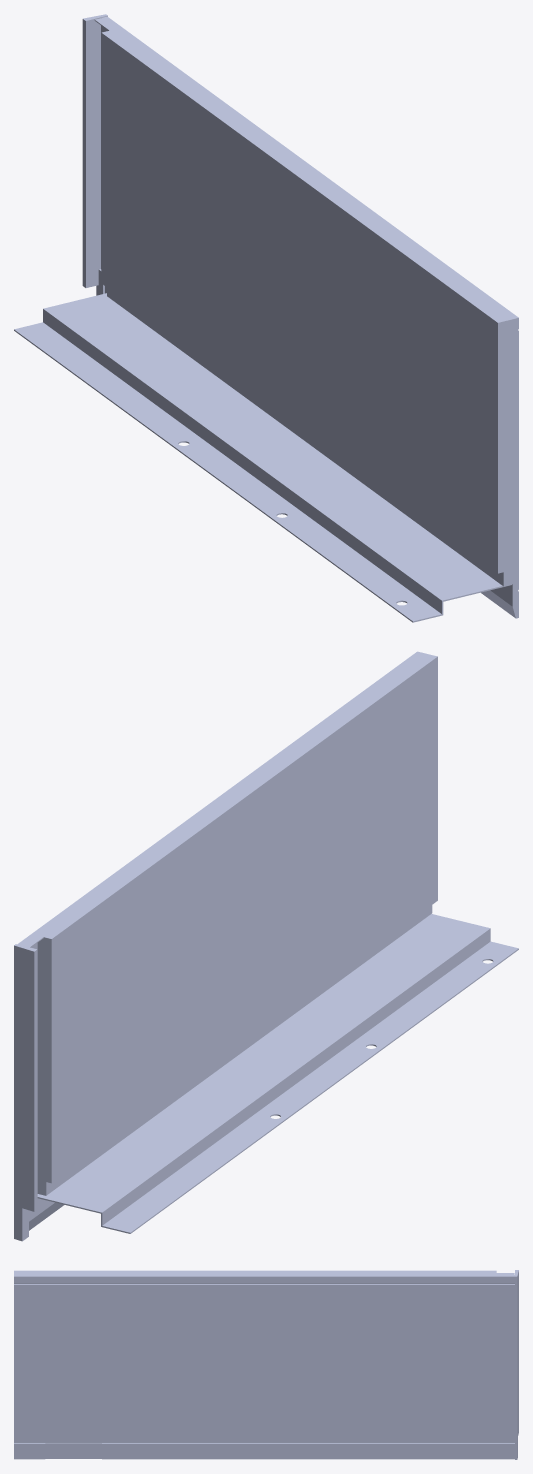
File: lg-kava-C450-m.glb
The picture shows the model from 3 angles, top to bottom: view 1: azimuth 30°, elevation 25°; view 2: azimuth 150°, elevation 25°; view 3: azimuth 270°, elevation 25°; orthographic projection. The views are drawn at different scales.
Parts seen in each view (by area): view 1: 41443231; view 2: 41443231; view 3: 41443231.
Boxes of the visible parts, x1=… form: 41443231: x1=14, y1=14, x2=518, y2=622; 41443231: x1=14, y1=651, x2=518, y2=1241; 41443231: x1=14, y1=1270, x2=518, y2=1459.
Size of the model in its own units: 0.0653 by 0.1777 by 0.4435.
